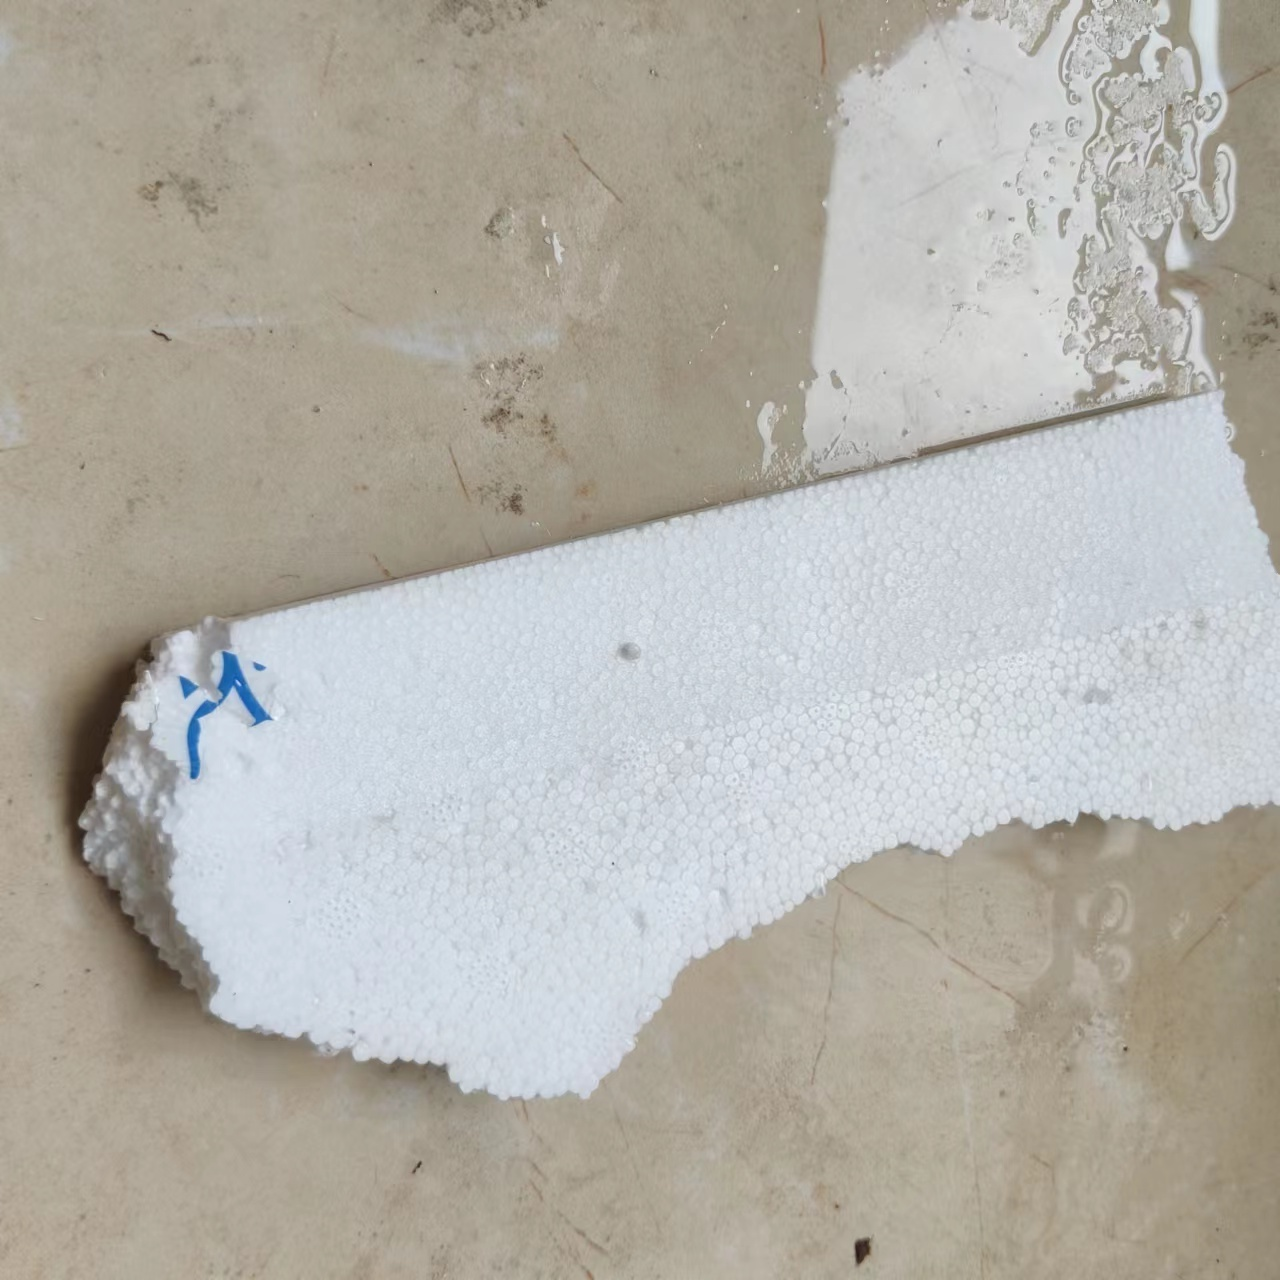5/可回收垃圾/泡沫: (72, 388, 1280, 1101)
